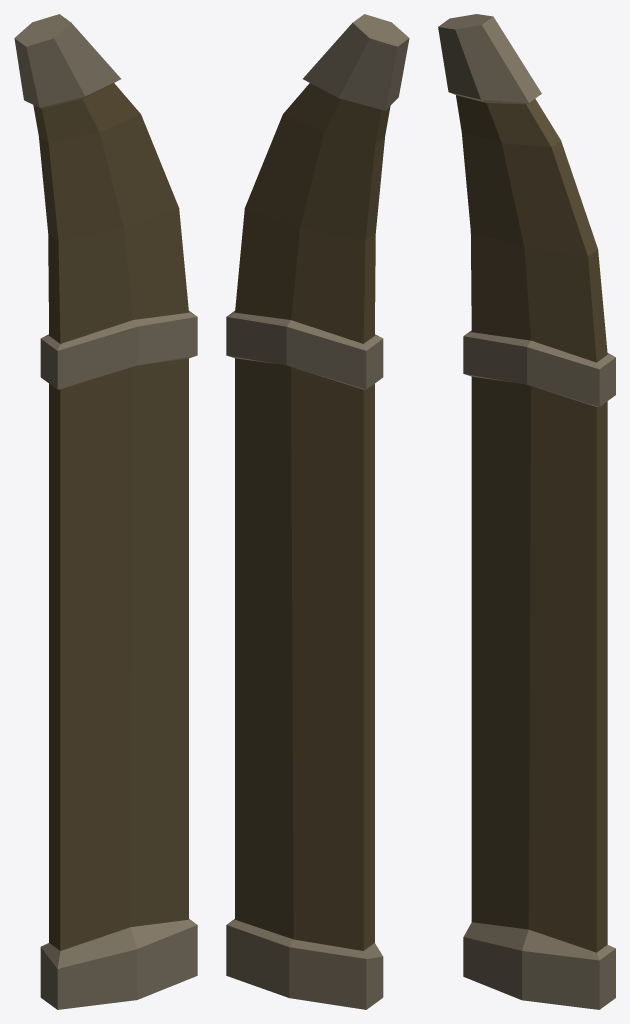
Rendered from Cutlass_1_Sheath.fbx.
3 renders of one model, left to right at view 1: azimuth 30°, elevation 25°; view 2: azimuth 150°, elevation 25°; view 3: azimuth 330°, elevation 25°, orthographic. The views are drawn at different scales.
Visible parts, largest first — view 1: Cutlass_1_Sheath; view 2: Cutlass_1_Sheath; view 3: Cutlass_1_Sheath.
Part boxes in pixels (<box>): Cutlass_1_Sheath: <box>14,14,197,1009</box>; Cutlass_1_Sheath: <box>226,14,409,1009</box>; Cutlass_1_Sheath: <box>438,14,615,1009</box>.
Size of the model in its own units: 13.85 by 77 by 4.81.
